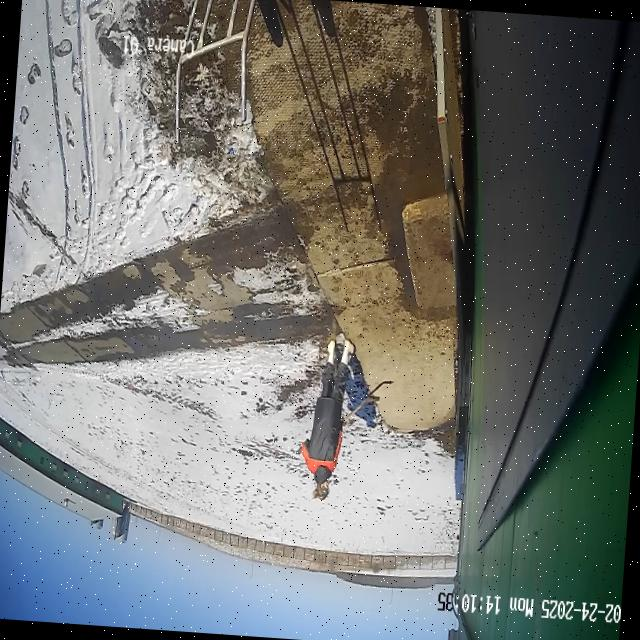Red uniform: (296, 332, 358, 503)
